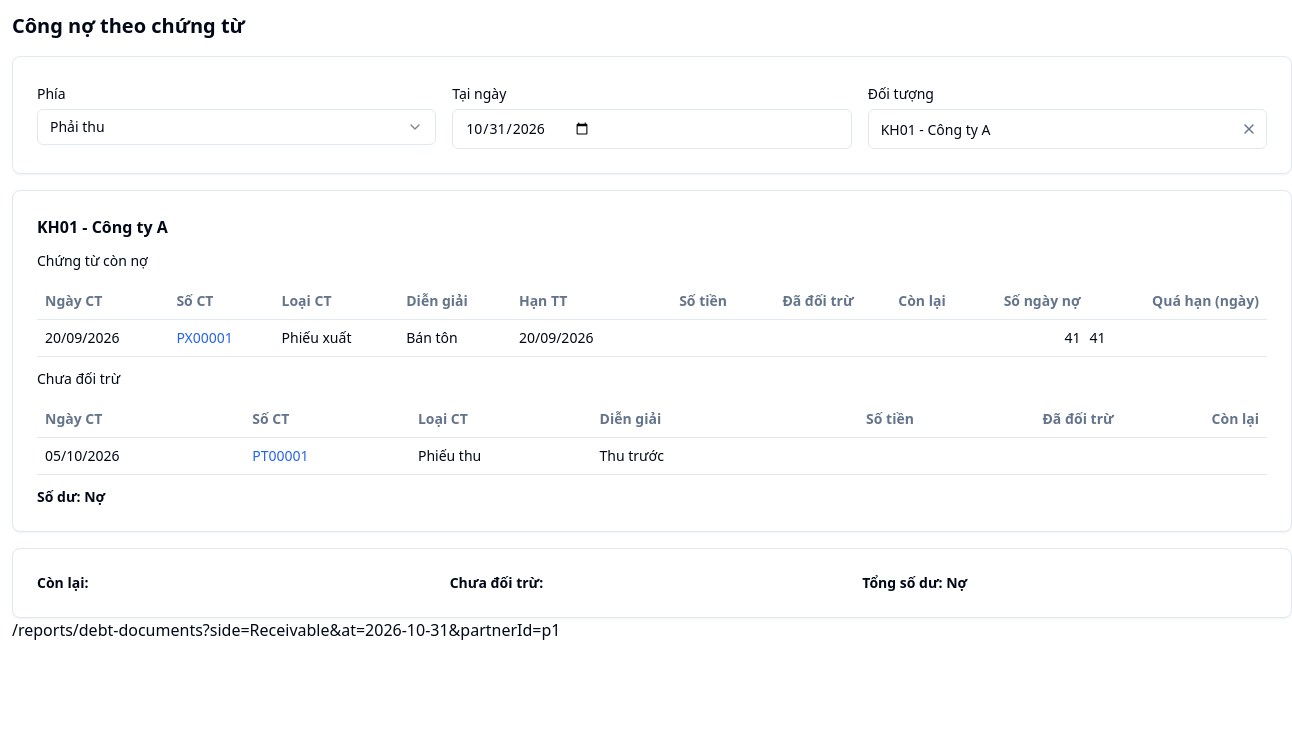
DebtDocumentsPage › changing Phía removes partnerId from the url
The width and height of the screenshot is (1292, 732).
Click the dropdown named "Phía". click: (77, 126)
box: [37,109,436,145]
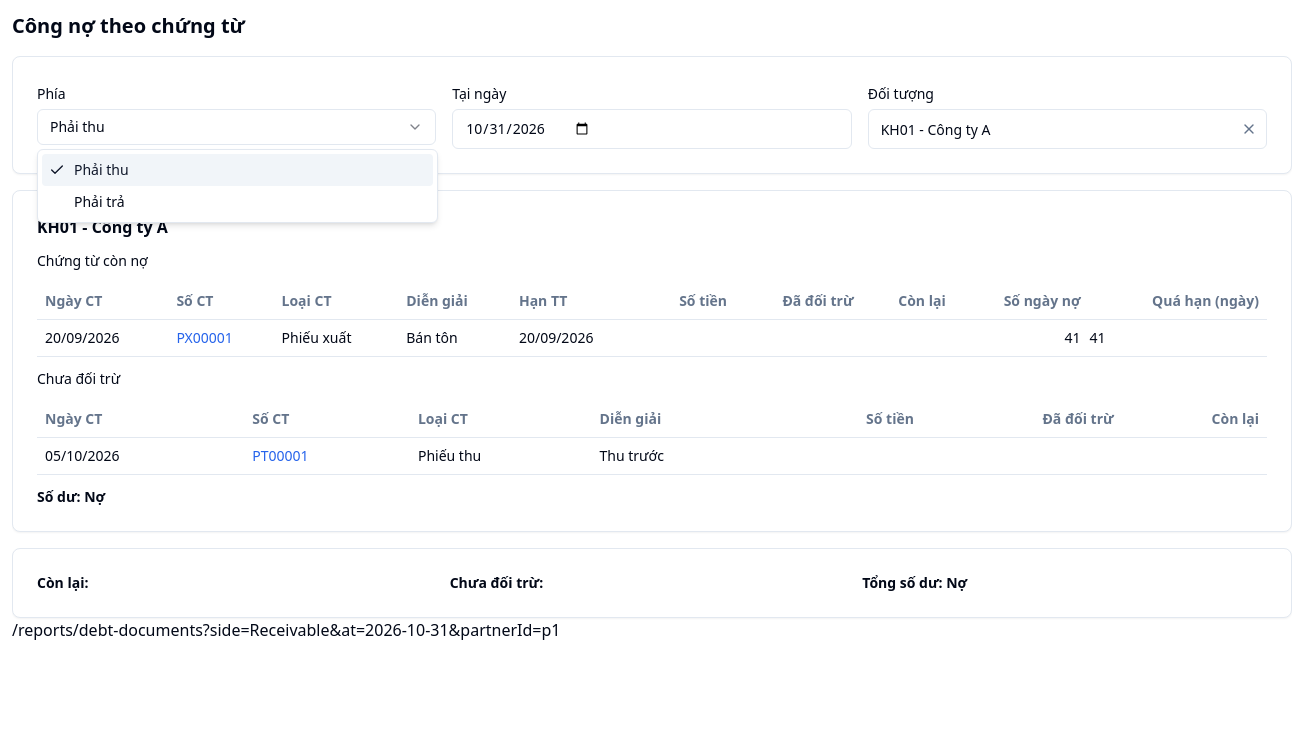
Click the option "Phải trả". click: (99, 202)
box: [74,192,125,211]
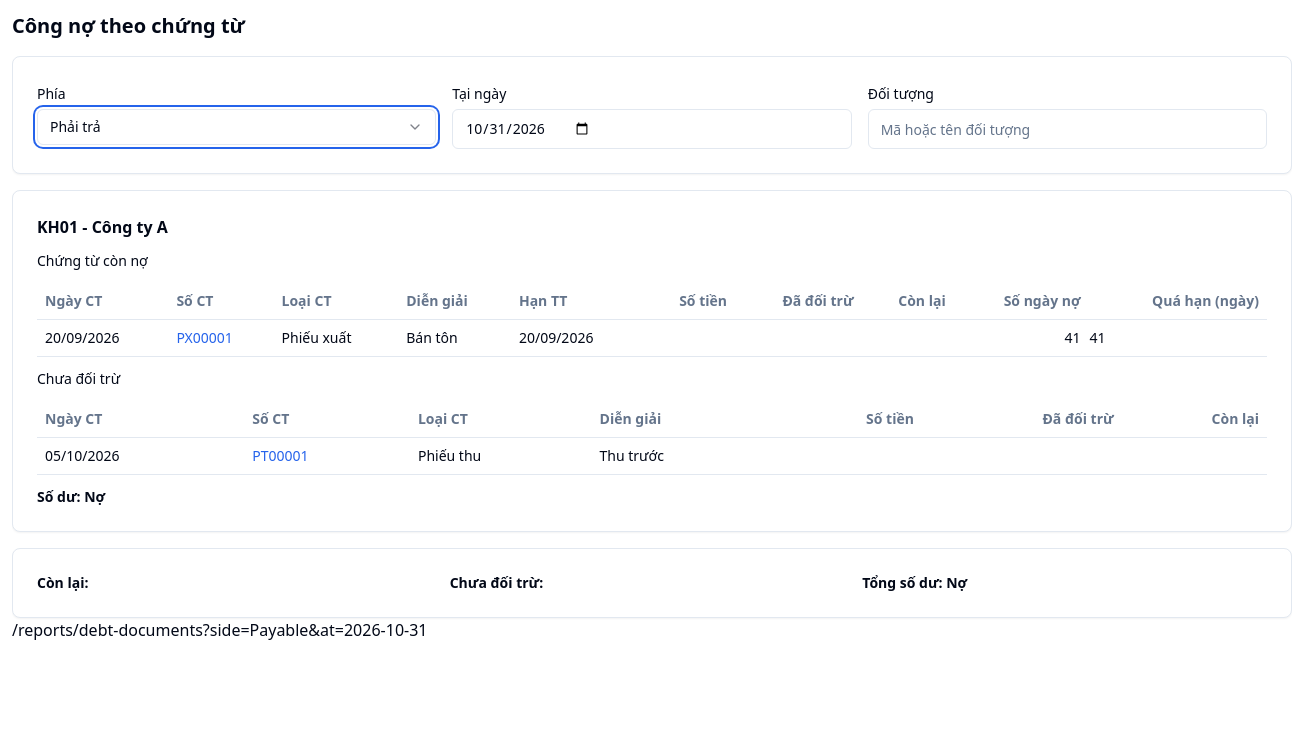
Result: the text with test id "location" shows "side=Payable" at [12,619,428,641]
Result: the text with test id "location" no longer shows "partnerId" at [12,619,428,641]
